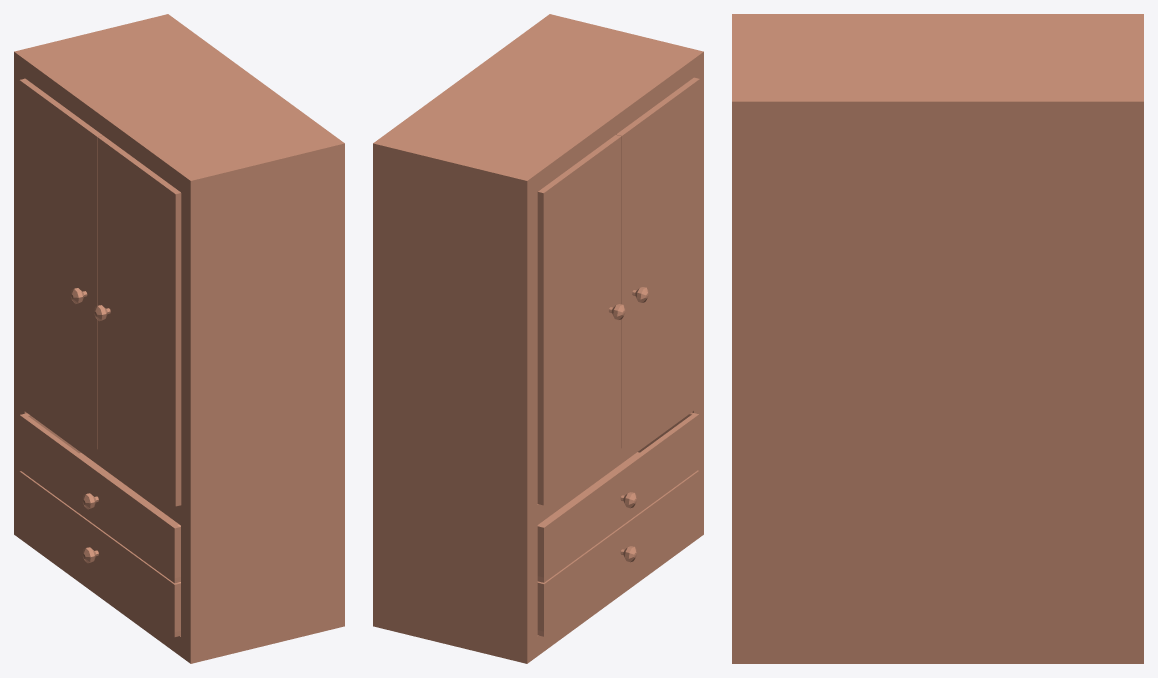
File: Armario (1).obj
3 views of the same model, side by side, from view 1: azimuth 30°, elevation 25°; view 2: azimuth 150°, elevation 25°; view 3: azimuth 270°, elevation 25° (orthographic). The views are drawn at different scales.
Parts seen in each view (by area): view 1: Armario_Cube.006_None.007_None.007; view 2: Armario_Cube.006_None.007_None.007; view 3: Armario_Cube.006_None.007_None.007.
Boxes of the visible parts, x1,y1,x2,y2 form: Armario_Cube.006_None.007_None.007: [14, 14, 344, 663]; Armario_Cube.006_None.007_None.007: [373, 14, 703, 663]; Armario_Cube.006_None.007_None.007: [732, 14, 1143, 663].
Size of the model in its own units: 1.01 by 2.69 by 1.78.
